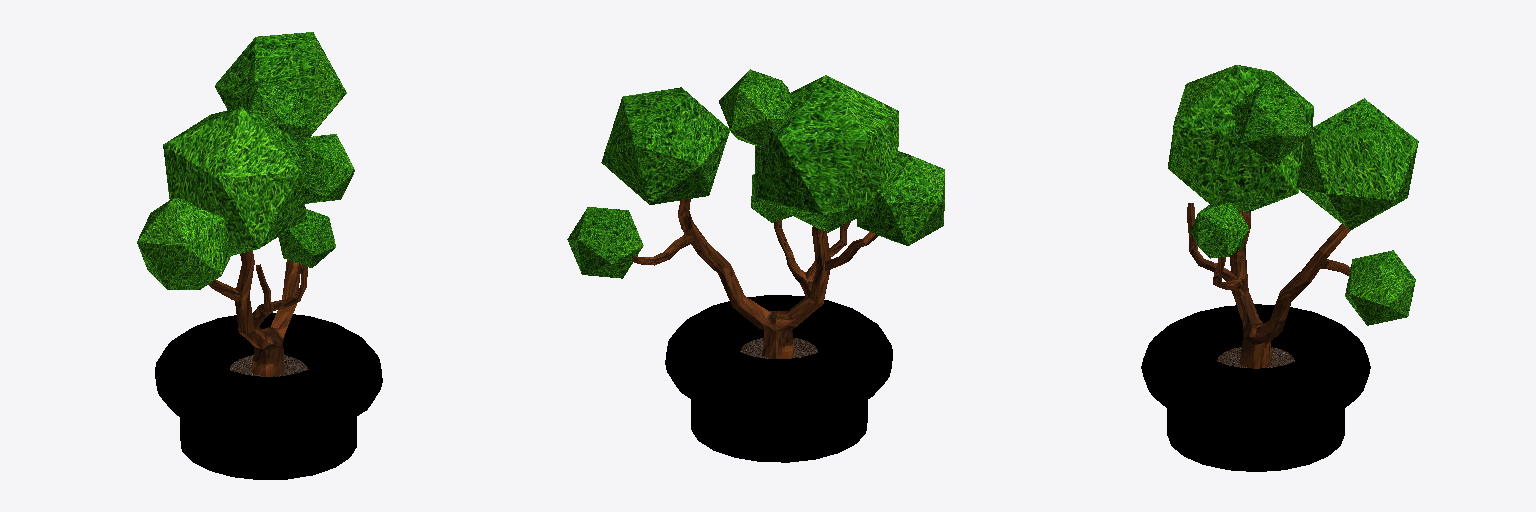
3 renders of one model, left to right at view 1: azimuth 30°, elevation 25°; view 2: azimuth 150°, elevation 25°; view 3: azimuth 270°, elevation 25°, orthographic.
Parts seen in each view (by area): view 1: Default, polySurface2pCylinder2, pCylinder2polySurface1; view 2: Default, polySurface2pCylinder2, pCylinder2polySurface1; view 3: Default, polySurface2pCylinder2, pCylinder2polySurface1.
Part boxes in pixels (left/top/right/bottom): Default: left=137, top=32, right=354, bottom=376; polySurface2pCylinder2: left=155, top=313, right=382, bottom=438; pCylinder2polySurface1: left=180, top=355, right=356, bottom=479; Default: left=567, top=69, right=944, bottom=358; polySurface2pCylinder2: left=665, top=295, right=892, bottom=421; pCylinder2polySurface1: left=691, top=338, right=867, bottom=462; Default: left=1168, top=65, right=1418, bottom=368; polySurface2pCylinder2: left=1141, top=304, right=1370, bottom=430; pCylinder2polySurface1: left=1167, top=347, right=1344, bottom=471.
Size of the model in its own units: 3.8 by 4.42 by 3.12.
13 materials, 3 textured.